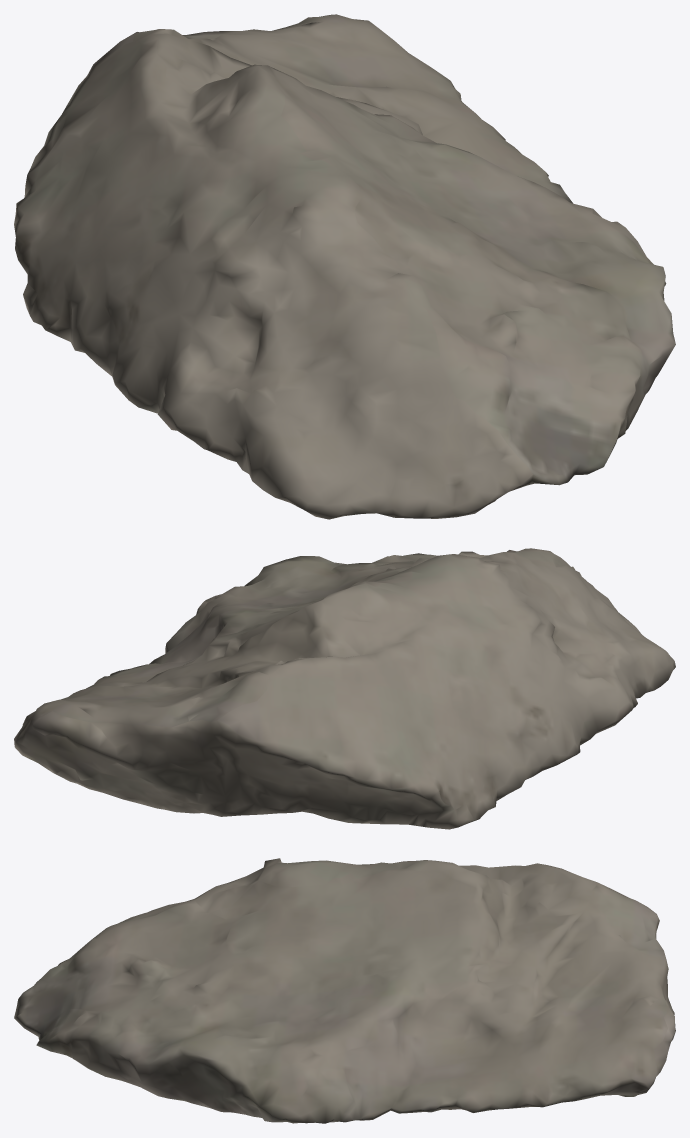
Rendered from isle-rock-2.glb.
3 views of the same model, one above another, from view 1: azimuth 30°, elevation 25°; view 2: azimuth 150°, elevation 25°; view 3: azimuth 270°, elevation 25° (orthographic). The views are drawn at different scales.
Parts seen in each view (by area): view 1: moon_rock_04_LOD0; view 2: moon_rock_04_LOD0; view 3: moon_rock_04_LOD0.
Boxes of the visible parts, x1=… form: moon_rock_04_LOD0: x1=14, y1=14, x2=675, y2=519; moon_rock_04_LOD0: x1=14, y1=548, x2=675, y2=829; moon_rock_04_LOD0: x1=14, y1=858, x2=675, y2=1123.
Bounding box in the file's own units: 0.1198 × 0.0538 × 0.1738.
1 material, 1 textured.
